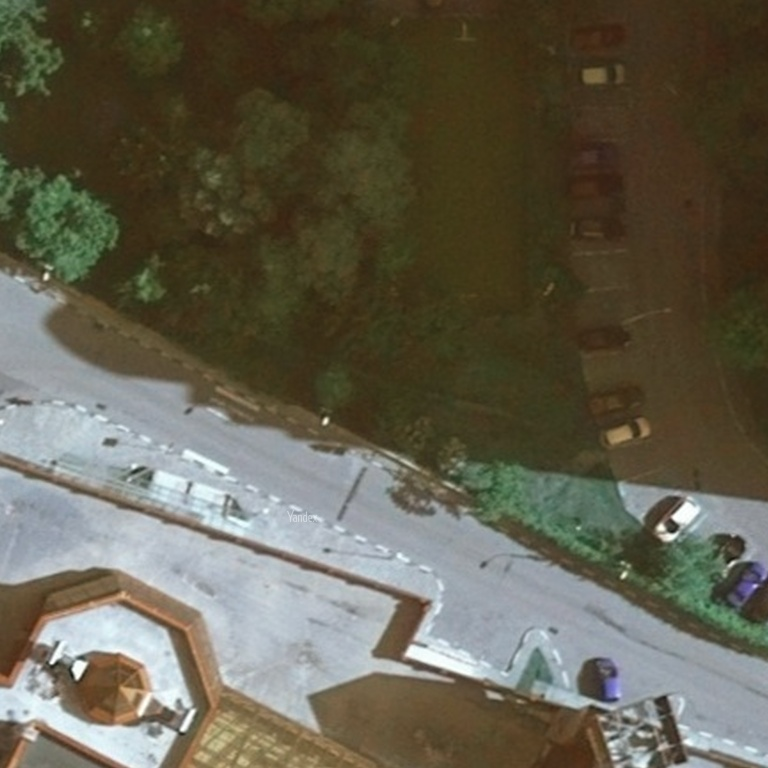basket_court: (395, 14, 534, 329)
